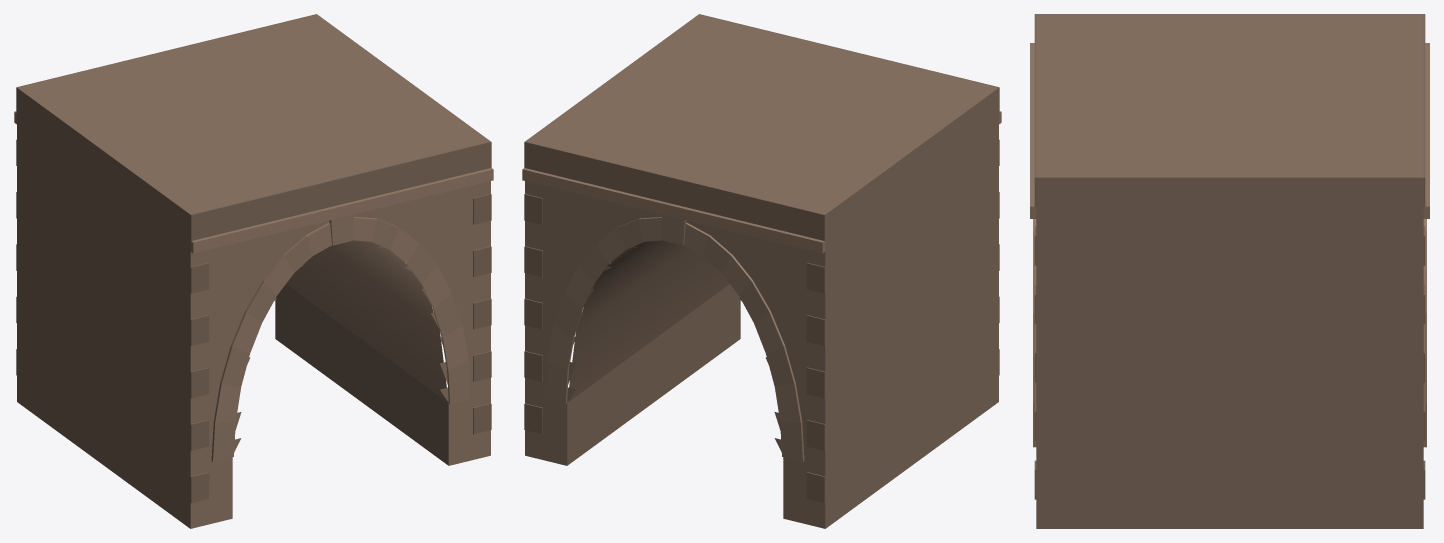
File: SM_Prop_bridge_arch_5.glb
The picture shows the model from 3 angles, left to right: view 1: azimuth 30°, elevation 25°; view 2: azimuth 150°, elevation 25°; view 3: azimuth 270°, elevation 25°; orthographic projection. The views are drawn at different scales.
Parts seen in each view (by area): view 1: SM_Prop_bridge_arch_5; view 2: SM_Prop_bridge_arch_5; view 3: SM_Prop_bridge_arch_5.
Boxes of the visible parts, box(x1,y1,x2,y2) form: SM_Prop_bridge_arch_5: box(14, 14, 493, 528); SM_Prop_bridge_arch_5: box(522, 14, 1001, 528); SM_Prop_bridge_arch_5: box(1030, 14, 1429, 528).
Bounding box in the file's own units: 1 × 1 × 1.03.
